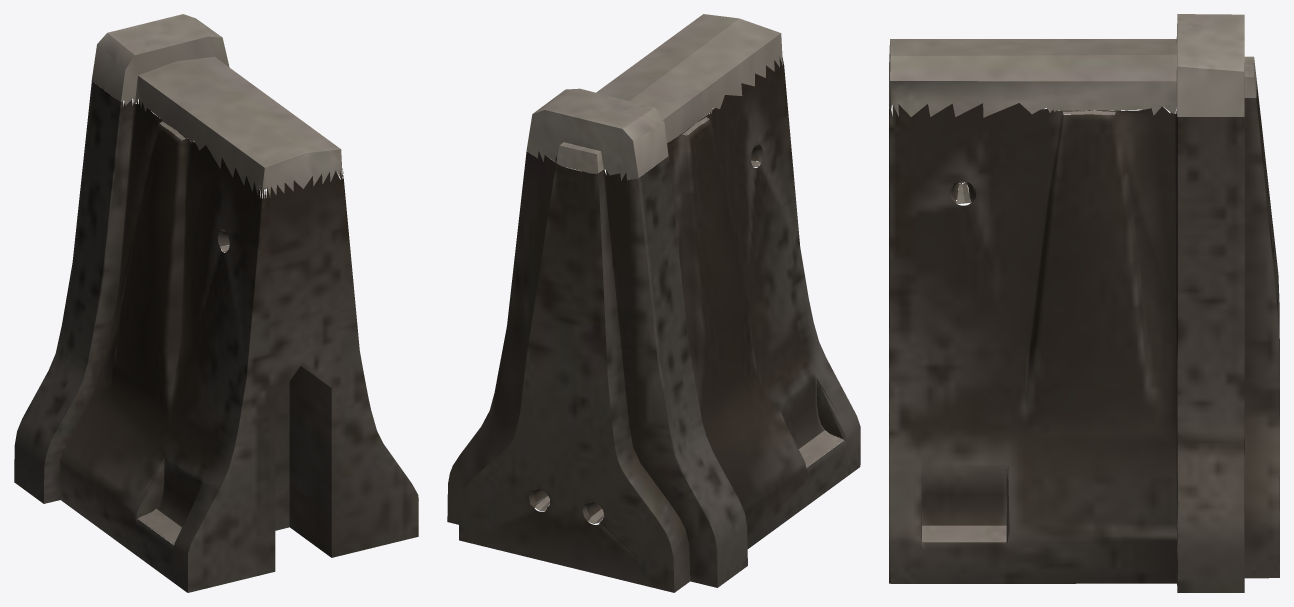
The model's file is stone-wall-s.glb.
The picture shows the model from 3 angles, left to right: view 1: azimuth 30°, elevation 25°; view 2: azimuth 150°, elevation 25°; view 3: azimuth 270°, elevation 25°; orthographic projection. The views are drawn at different scales.
Visible parts, largest first — view 1: body; view 2: body; view 3: body.
Part boxes in pixels (<box>): body: <box>14,14,418,592</box>; body: <box>447,14,860,592</box>; body: <box>889,14,1279,592</box>.
Size of the model in its own units: 0.8506 by 1.31 by 0.9603.
Materials: 1 (1 with a texture image).
